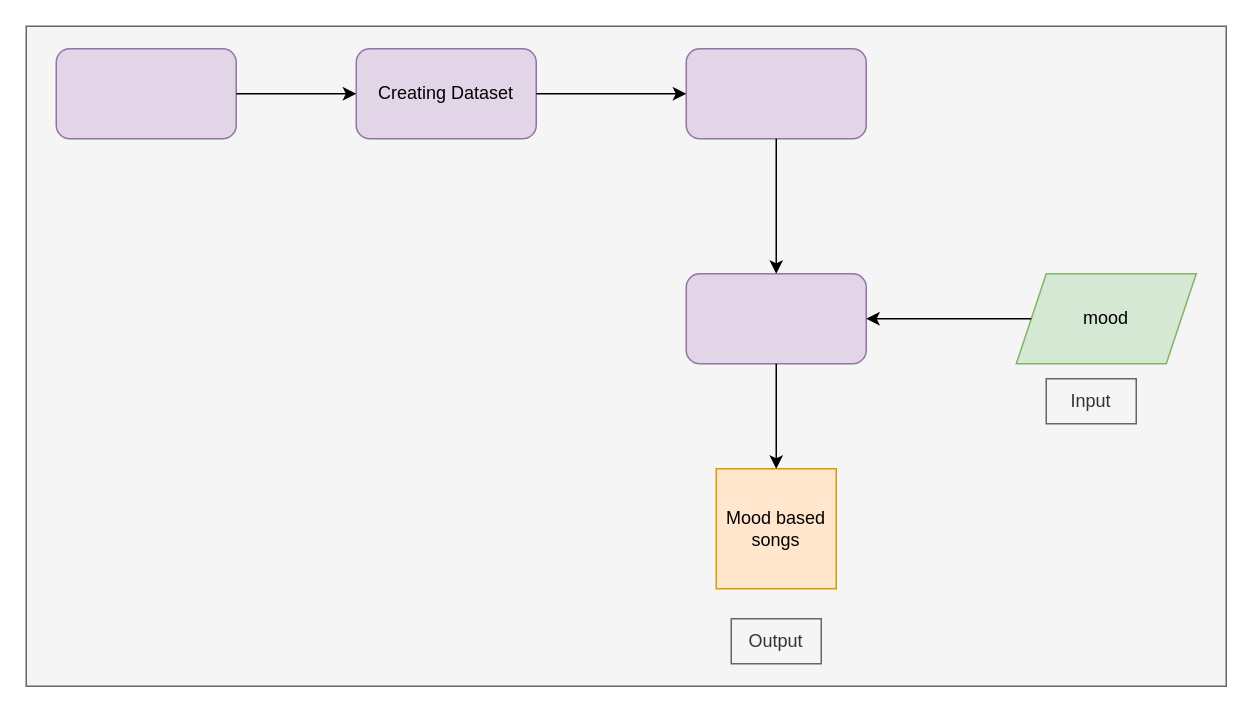
Some shapes in this 1253 by 713 pixel diagram are drawn without their labels. The centre of each missing label's shape, as x and y in pixels:
Classifier based on 6-clusters formed: the point at 775,318
Clustering: the point at 775,93
Spotify API: the point at 145,93
